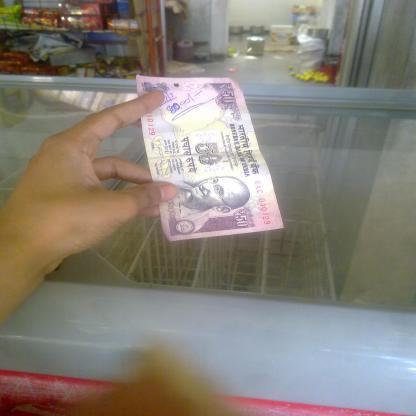Old50Front: (136, 74, 284, 242)
